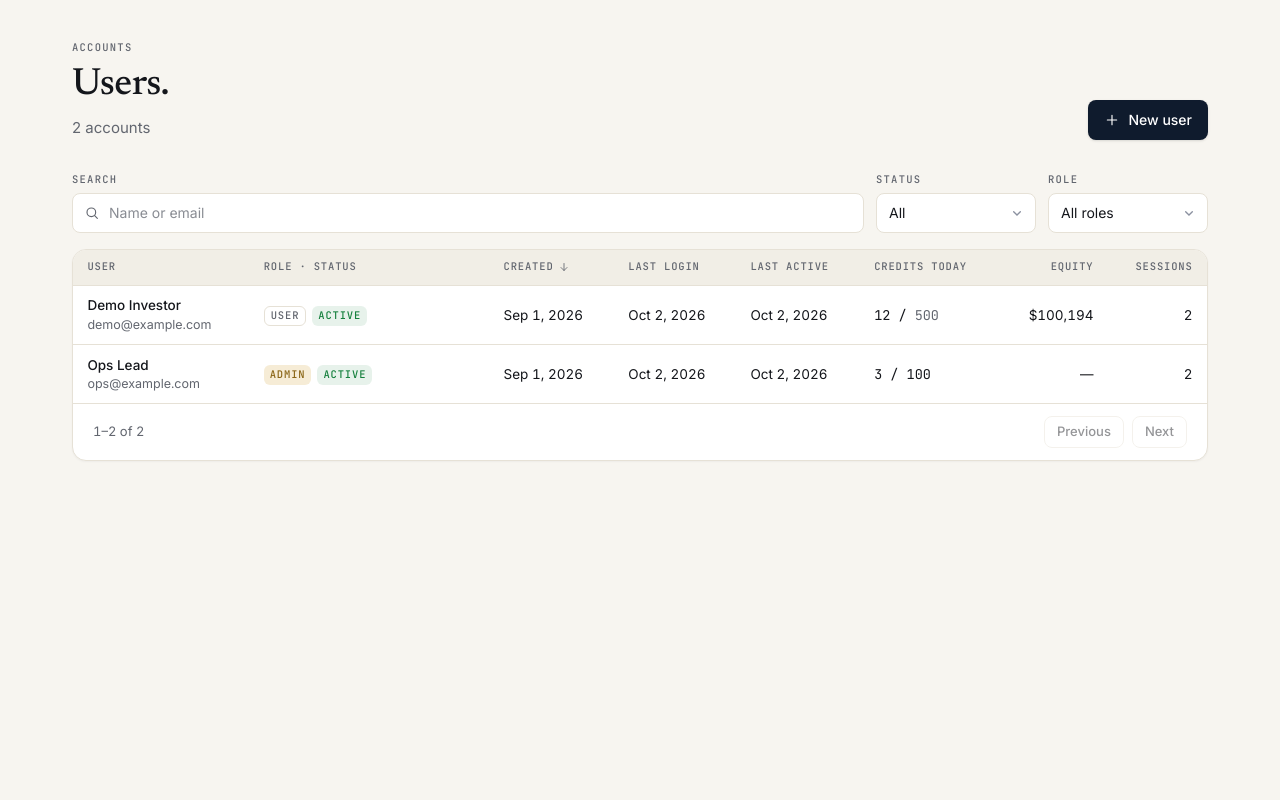
Test: New user › shows a generated password once, with Copy, and clears it when closed
The image size is (1280, 800).
Click the button "New user" at (1148, 120), box [1088, 100, 1208, 140]
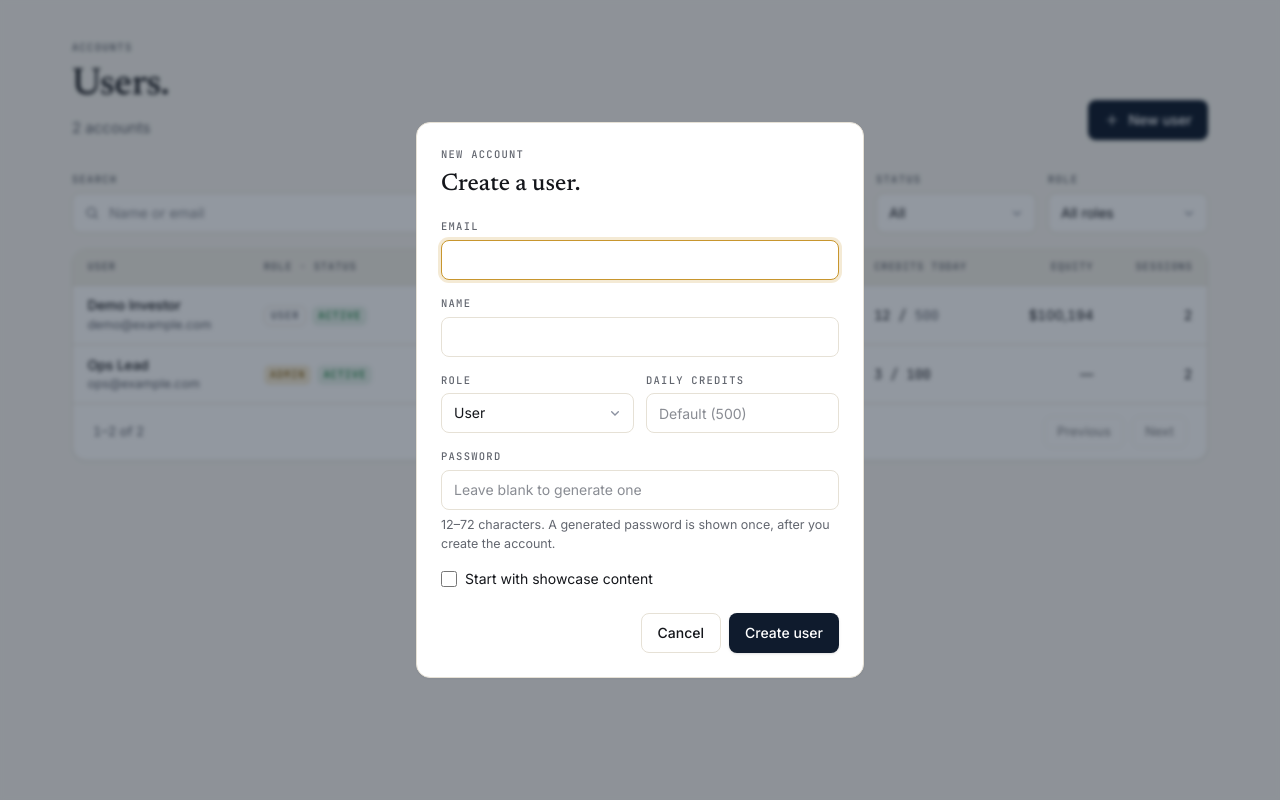
Type "  Ann@Example.com " into the field labelled "Email" at (640, 260), box [441, 240, 839, 280]
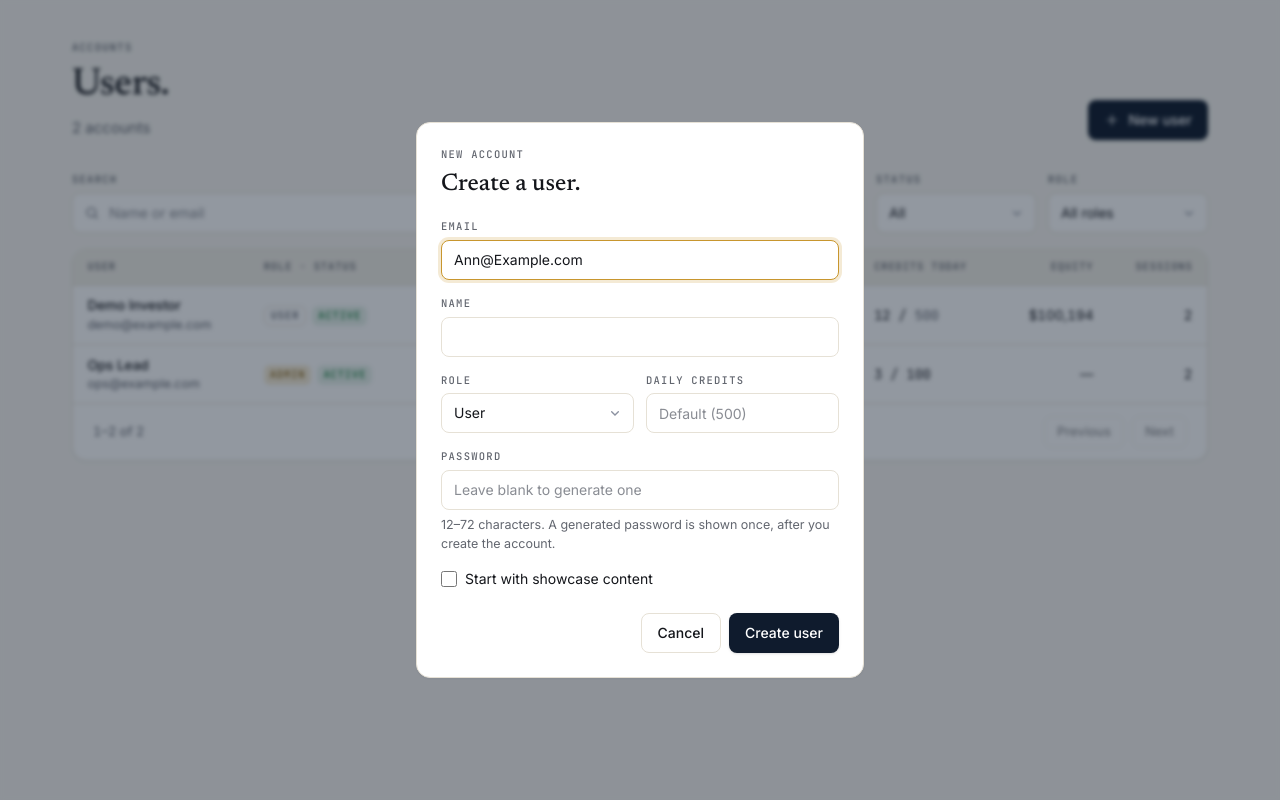
Type "Ann Lee" into the field labelled "Name" at (640, 337), box [441, 317, 839, 357]
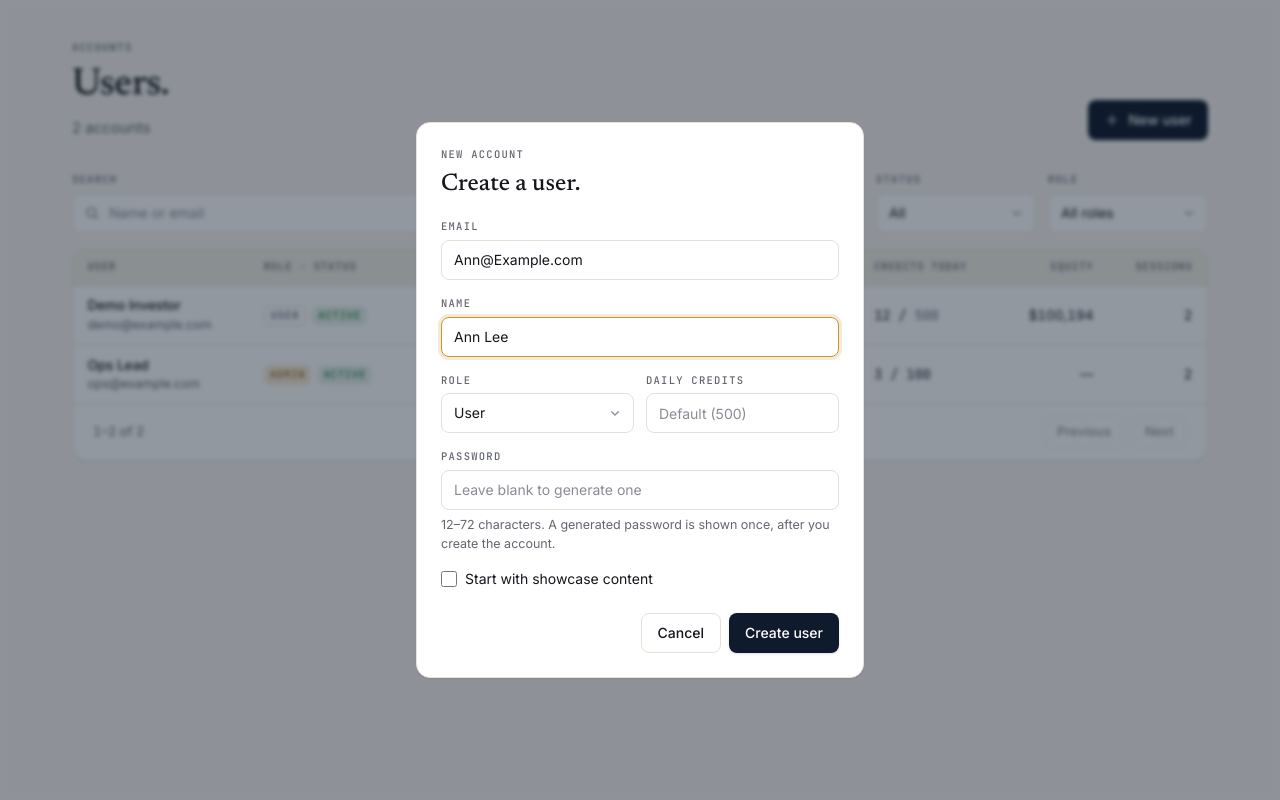
Select "Admin" in the dropdown labelled "Role" at (538, 413), box [441, 393, 634, 433]
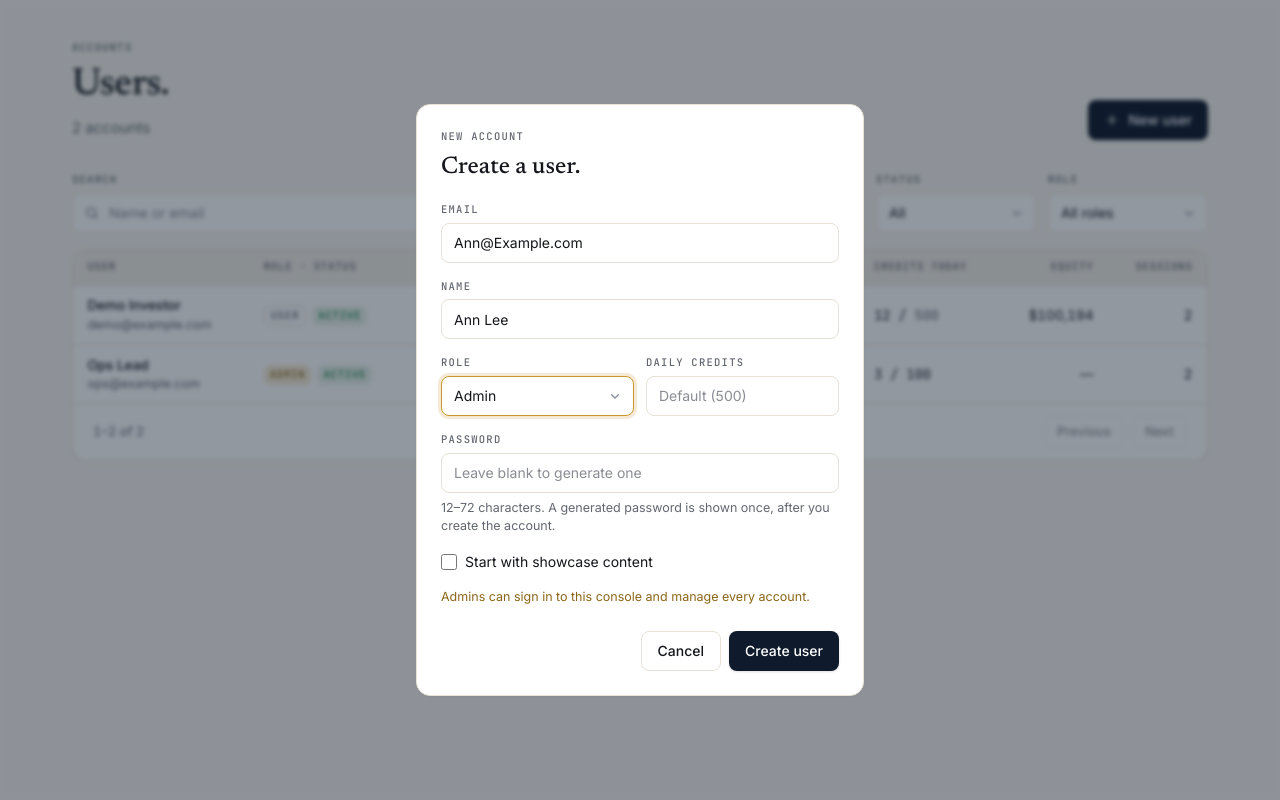
Now the dialog "Create a user." shows "Admins can sign in to this console", box [441, 589, 810, 604]
Click the button "Create user" at (784, 651), box [729, 631, 839, 671]
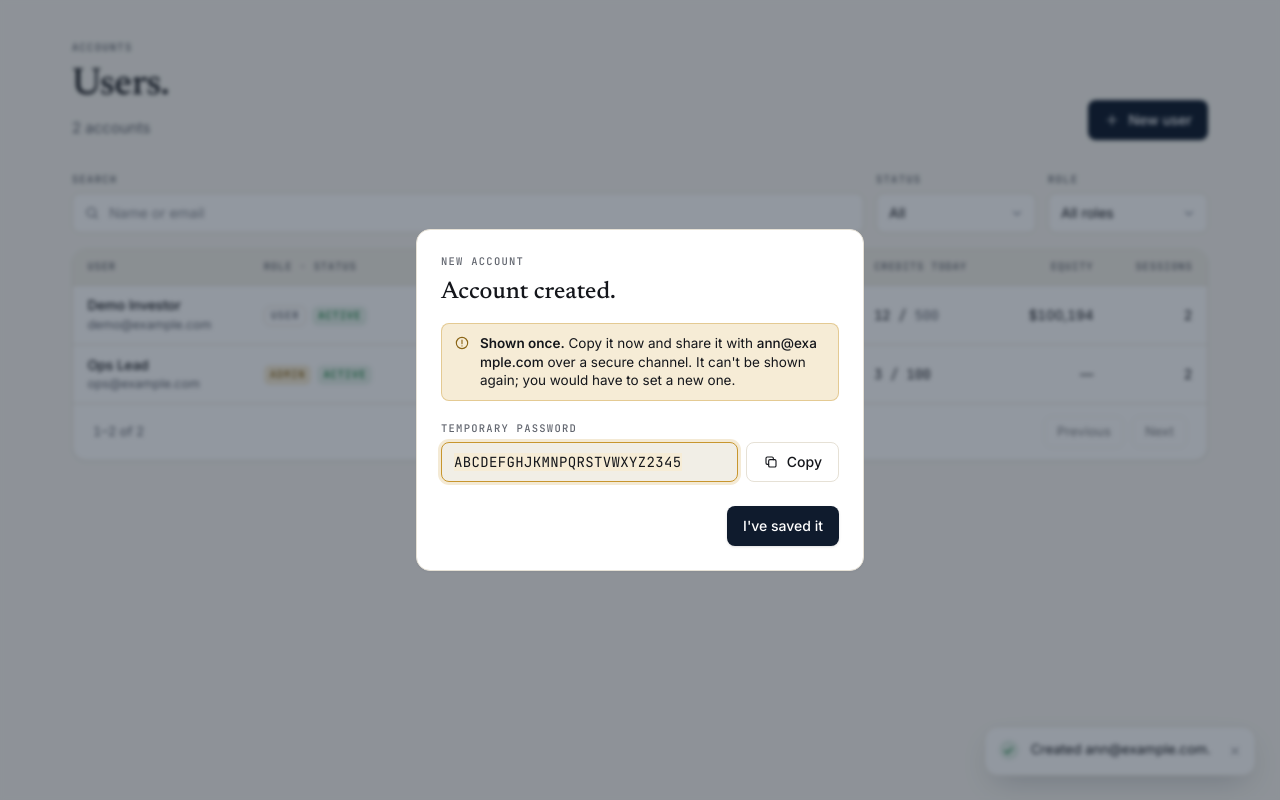
Now the dialog "Account created." shows "Shown once.", box [480, 335, 565, 351]
Now the field labelled "Temporary password" holds "ABCDEFGHJKMNPQRSTVWXYZ2345", box [441, 442, 738, 482]
Now the text "Created ann@example.com." is shown, box [1031, 739, 1211, 760]
Click the button "I've saved it" at (783, 526), box [727, 506, 839, 546]
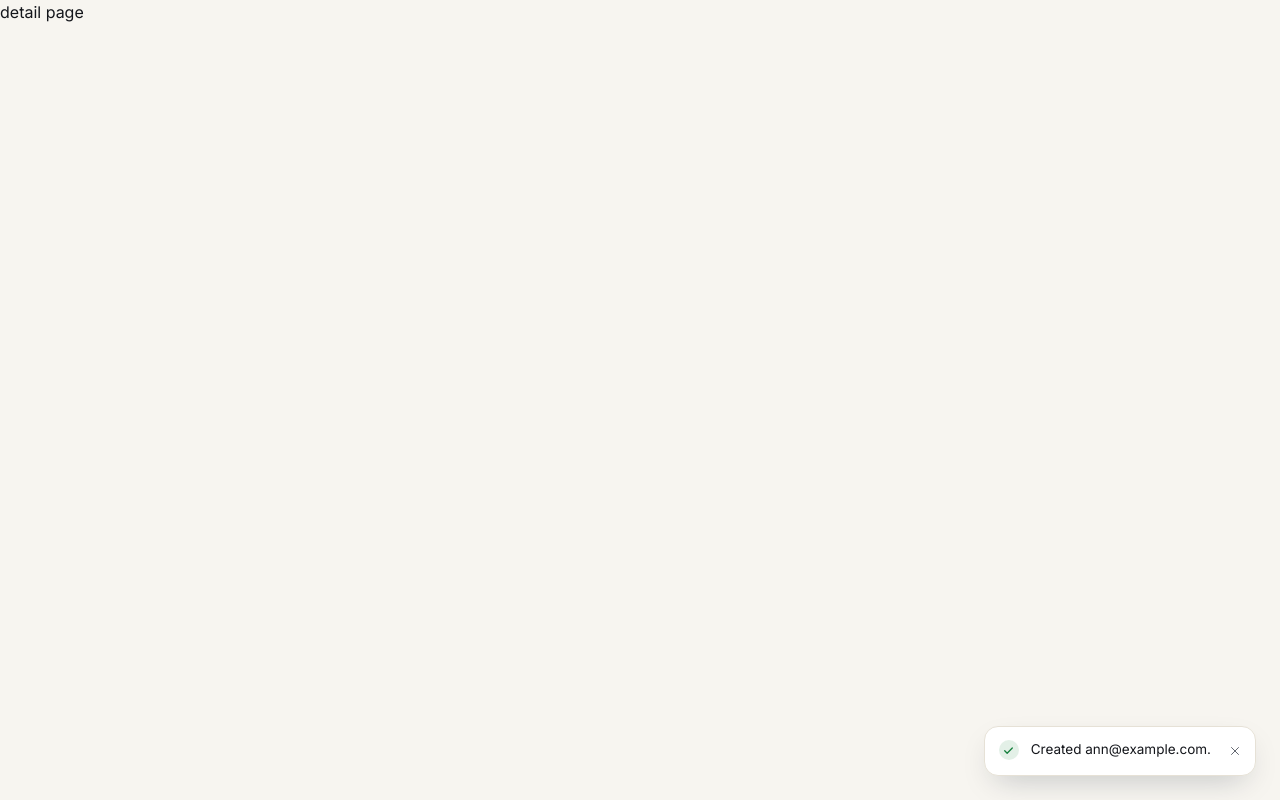
Expected: the field showing "ABCDEFGHJKMNPQRSTVWXYZ2345" is not shown
Now the text "detail page" is shown, box [0, 2, 84, 22]
